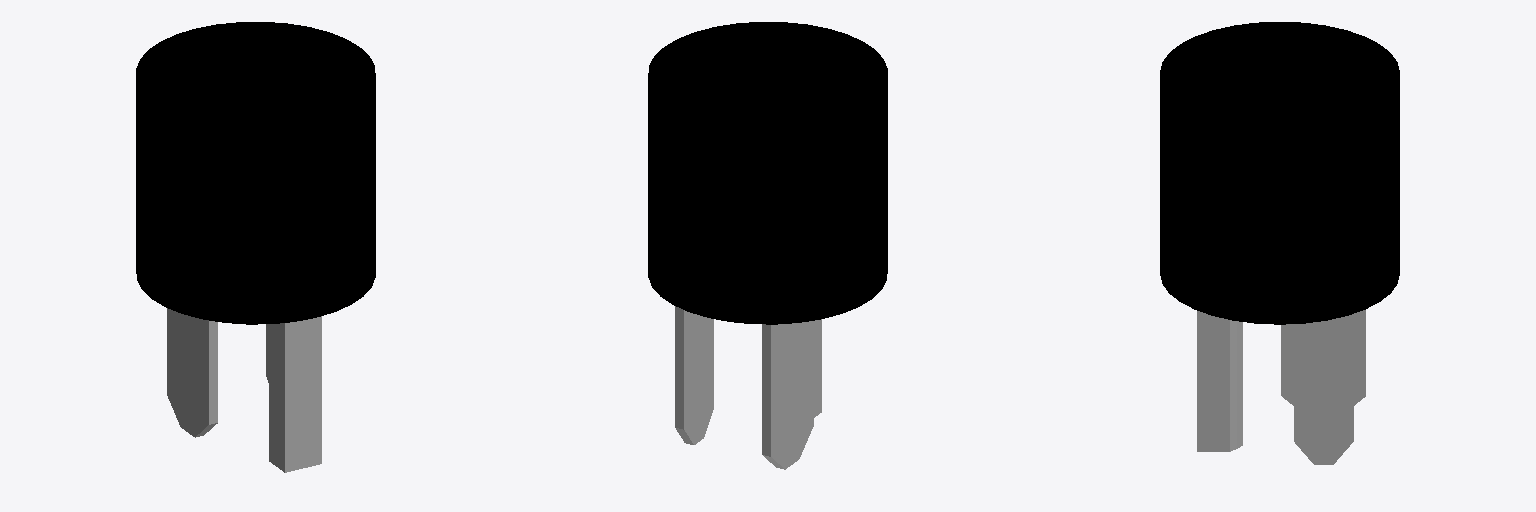
The model's file is Plug.obj.
3 renders of one model, left to right at view 1: azimuth 30°, elevation 25°; view 2: azimuth 150°, elevation 25°; view 3: azimuth 270°, elevation 25°, orthographic.
Parts seen in each view (by area): view 1: Cylinder.008, Cube.008, Cube.006_Cube.004; view 2: Cylinder.008, Cube.006_Cube.004, Cube.007_Cube.009, Cube.008; view 3: Cylinder.008, Cube.007_Cube.009, Cube.008, Cube.006_Cube.004.
Boxes of the visible parts, <box> form: Cylinder.008: <box>136,22,375,324</box>; Cube.008: <box>269,316,321,472</box>; Cube.006_Cube.004: <box>167,308,217,437</box>; Cylinder.008: <box>648,22,887,324</box>; Cube.006_Cube.004: <box>762,321,813,469</box>; Cube.007_Cube.009: <box>675,306,713,444</box>; Cube.008: <box>814,319,821,417</box>; Cylinder.008: <box>1160,22,1399,324</box>; Cube.007_Cube.009: <box>1294,314,1353,464</box>; Cube.008: <box>1197,311,1242,451</box>; Cube.006_Cube.004: <box>1281,310,1365,405</box>.
Bounding box in the file's own units: 1.33 × 2.24 × 1.33.